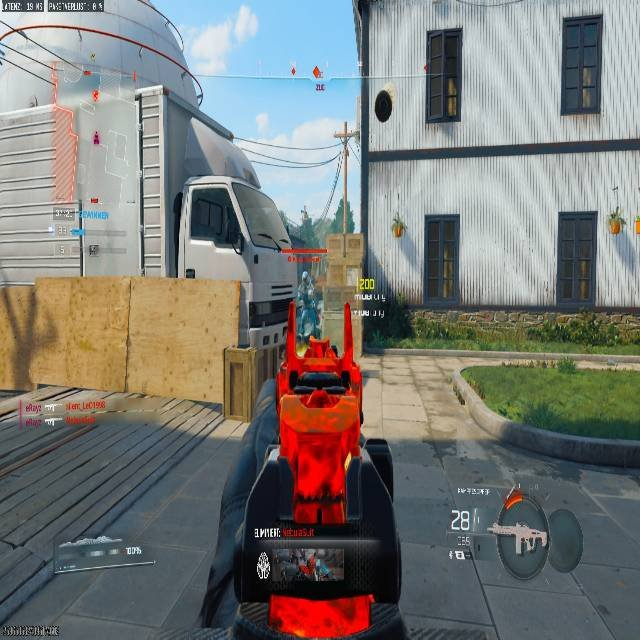player: (295, 272, 322, 338)
